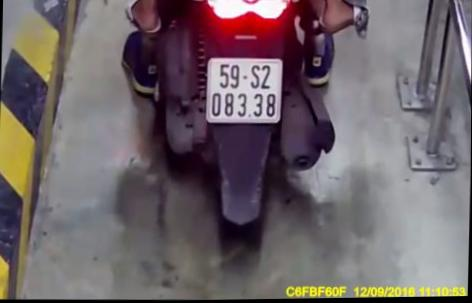LP: (204, 54, 285, 127)
